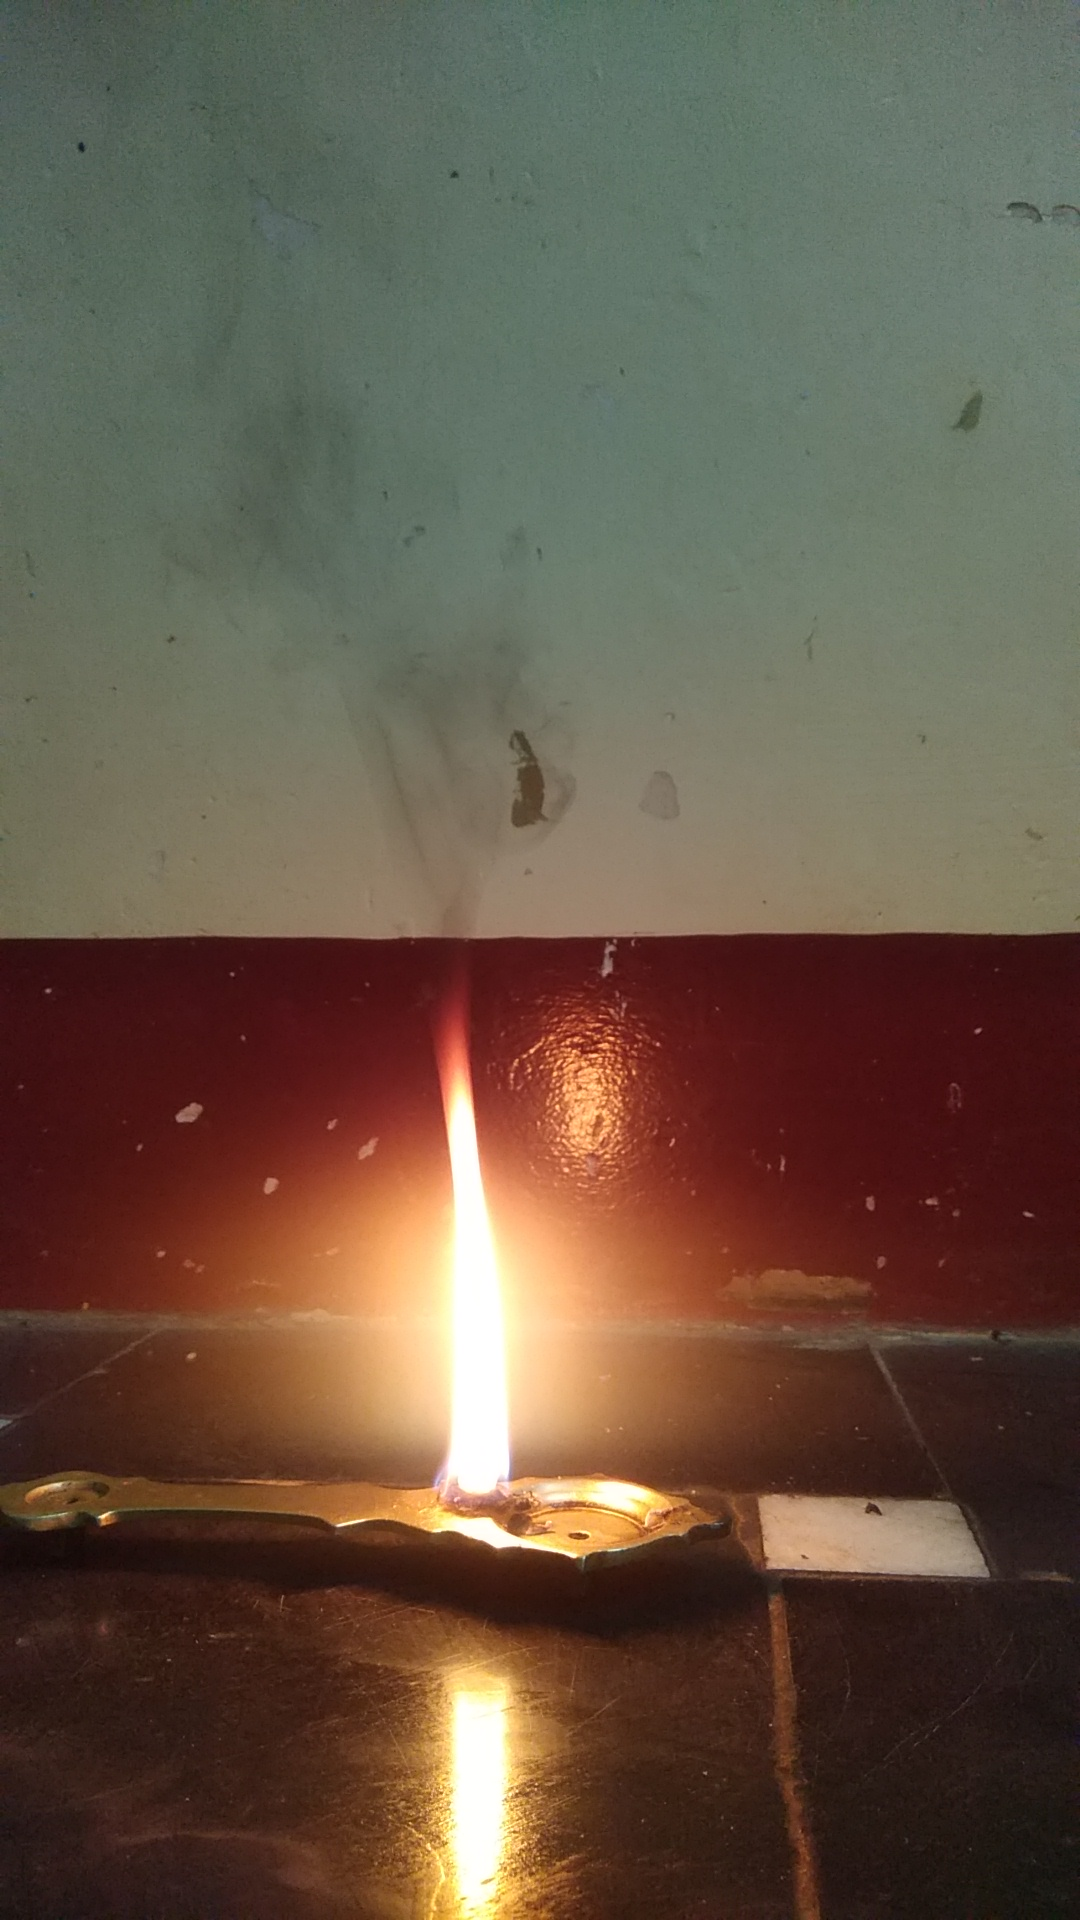Fire: (414, 1025, 568, 1528)
Smoke: (104, 25, 559, 919)
